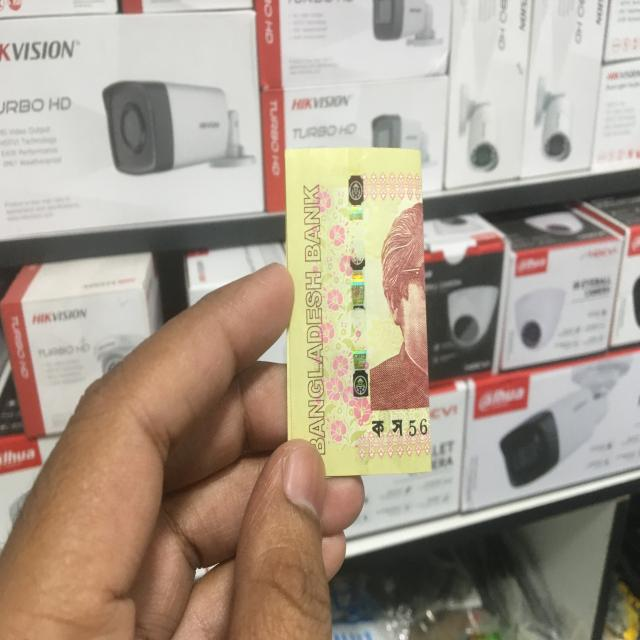Taka: (282, 141, 432, 475)
